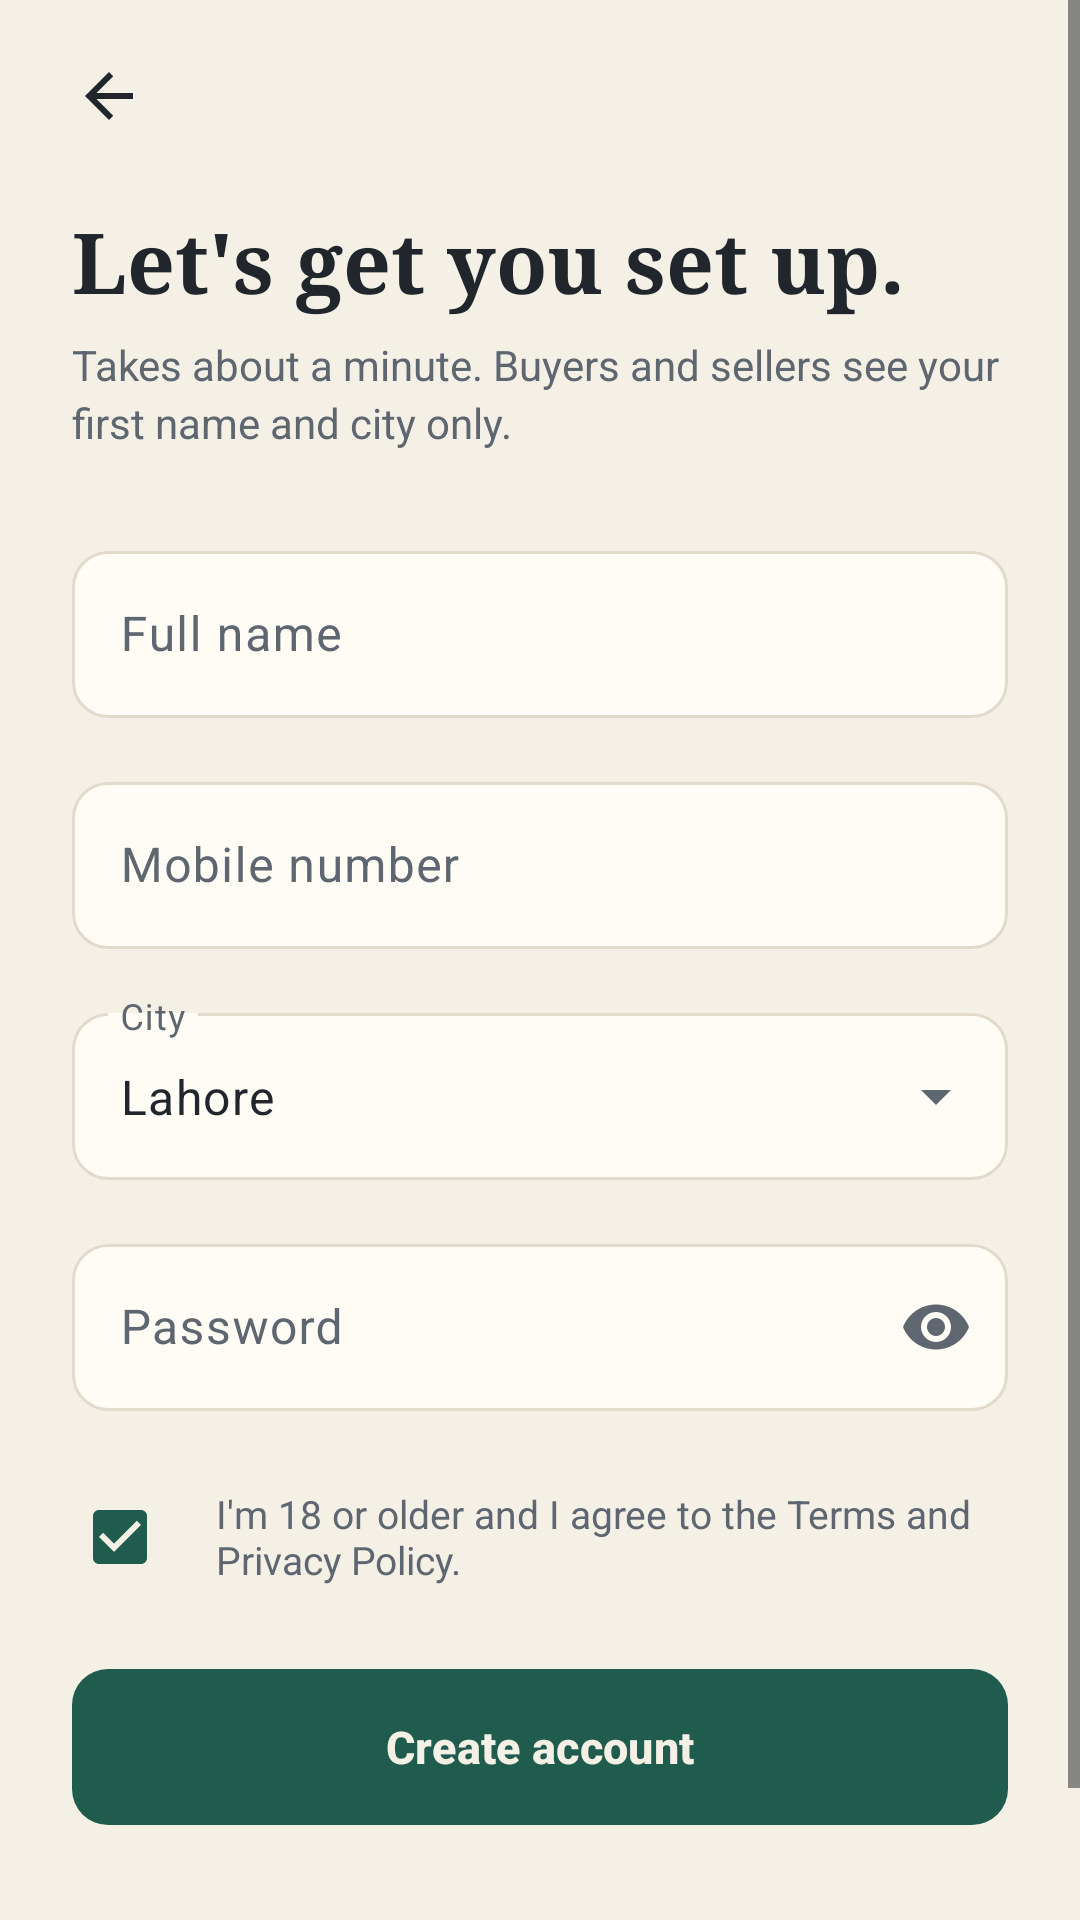

Point at icon controls on the screen. Image size 1080px x 1920px, points as (x=x, y=y).
Back: (x=109, y=96)
